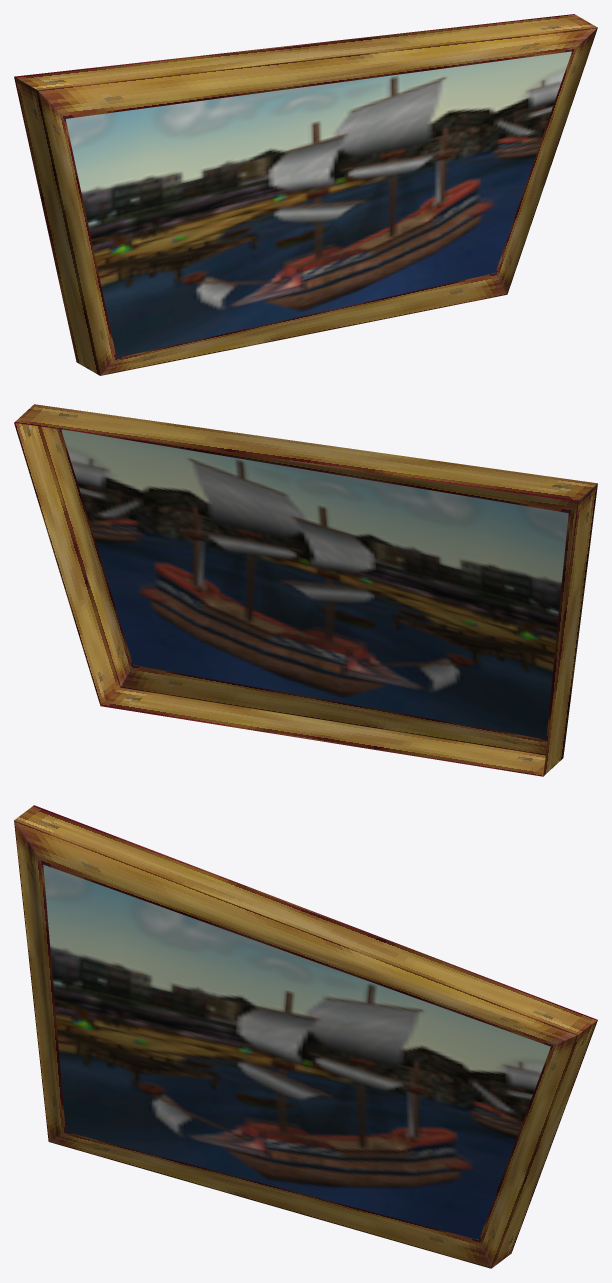
The model's file is Beach_Boardwalk_Sign.FBX.
3 renders of one model, top to bottom at view 1: azimuth 30°, elevation 25°; view 2: azimuth 150°, elevation 25°; view 3: azimuth 330°, elevation 25°, orthographic. The views are drawn at different scales.
Parts seen in each view (by area): view 1: sign; view 2: sign; view 3: sign.
Part boxes in pixels (left/top/right/bottom): sign: left=14, top=14, right=597, bottom=375; sign: left=14, top=404, right=597, bottom=776; sign: left=14, top=805, right=597, bottom=1268.
Bounding box in the file's own units: 349 × 190 × 39.45.
